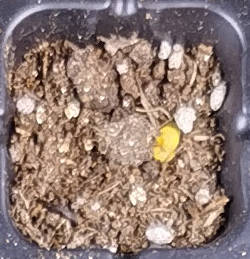pepper seed: (64, 54, 239, 216), (68, 46, 250, 199)
